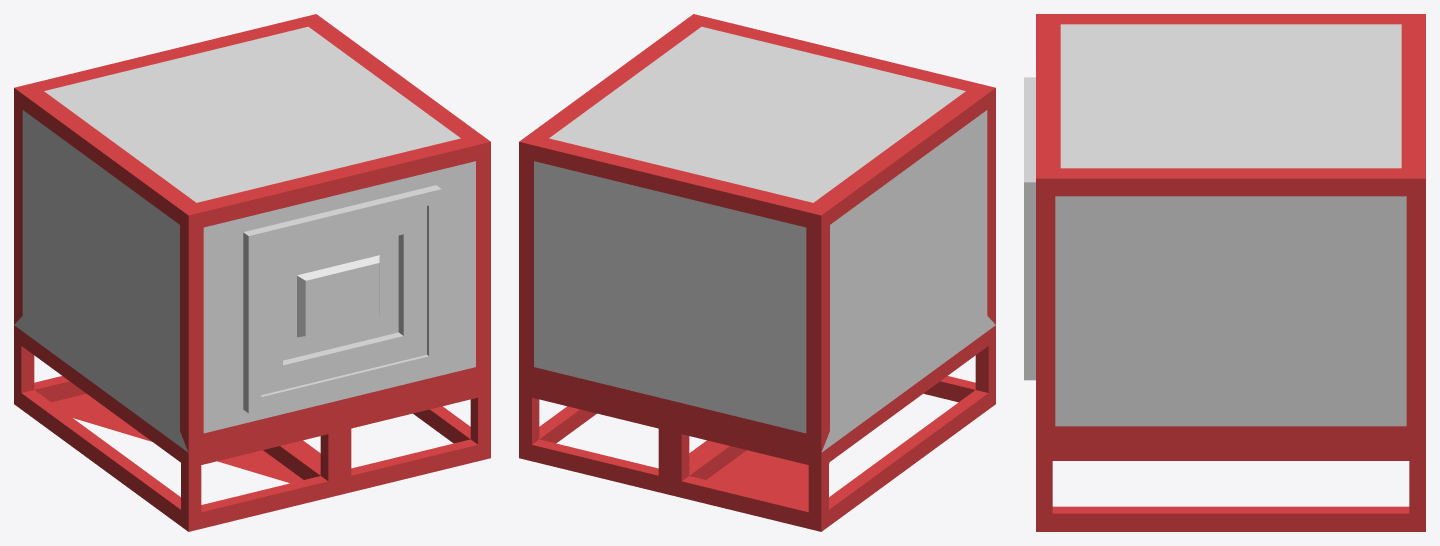
Rendered from PH_SOURD-CHAMBER_.fbx.
3 renders of one model, left to right at view 1: azimuth 30°, elevation 25°; view 2: azimuth 150°, elevation 25°; view 3: azimuth 270°, elevation 25°, orthographic. The views are drawn at different scales.
Visible parts, largest first — view 1: BODY, DOOR; view 2: BODY; view 3: BODY, DOOR.
Boxes of the visible parts, <box> form: BODY: <box>14,14,490,531</box>; DOOR: <box>243,185,441,413</box>; BODY: <box>519,14,995,531</box>; BODY: <box>1036,14,1425,531</box>; DOOR: <box>1024,77,1035,380</box>.
Bounding box in the file's own units: 40 × 40 × 41.24.
